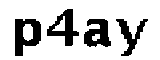4: (46, 6, 81, 54)
a: (83, 17, 113, 50)
p: (10, 14, 44, 60)
y: (114, 15, 151, 58)
